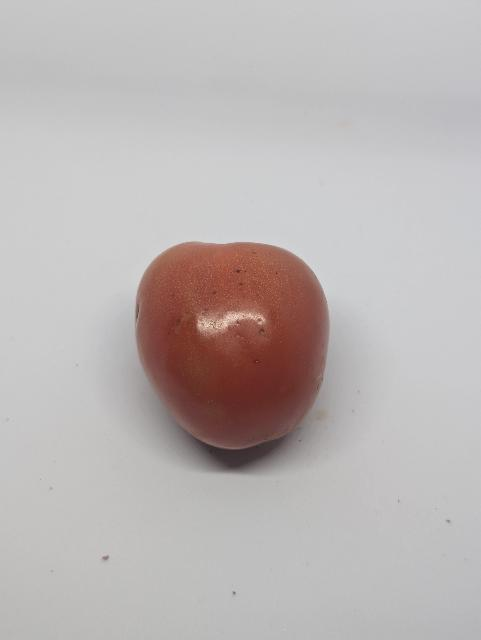red: (84, 196, 374, 476)
